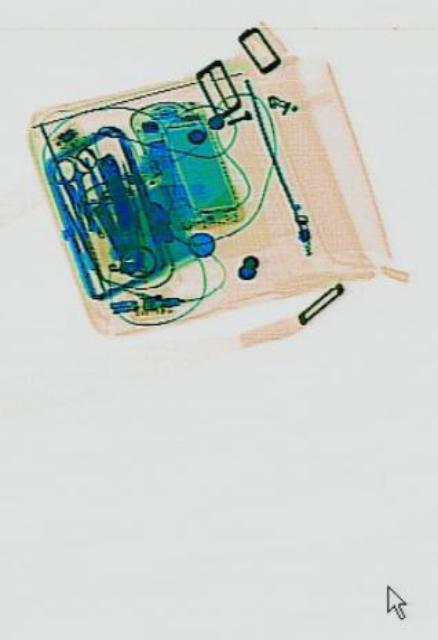Scissors: (47, 142, 110, 238)
